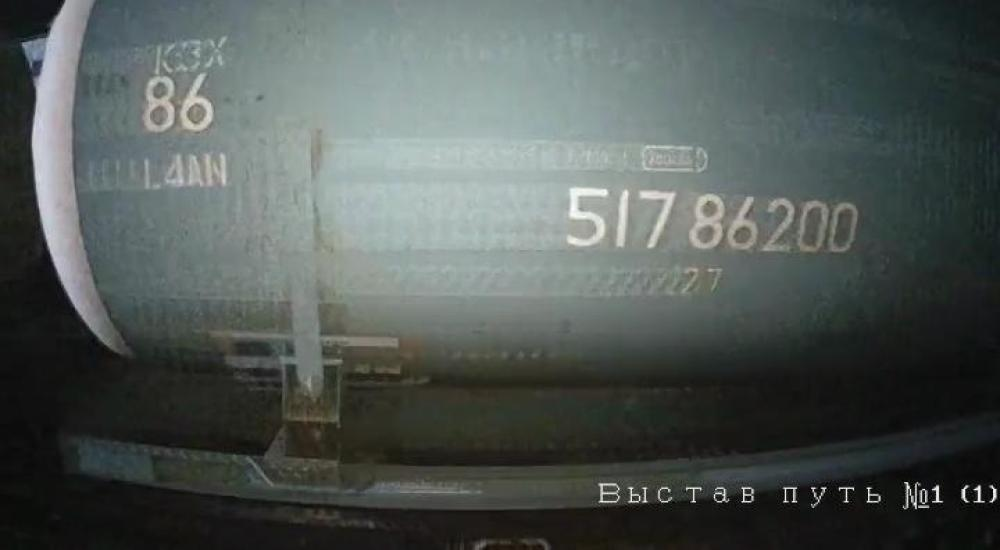Wagon-number: (560, 180, 864, 261)
